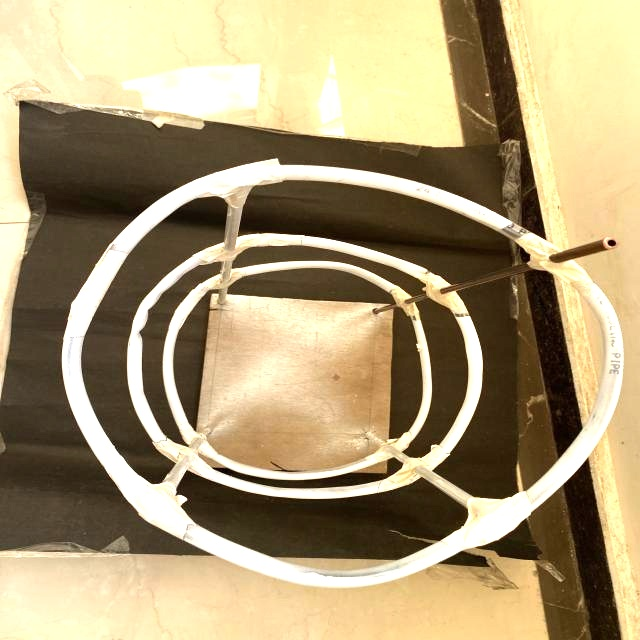silo: (51, 149, 637, 583)
